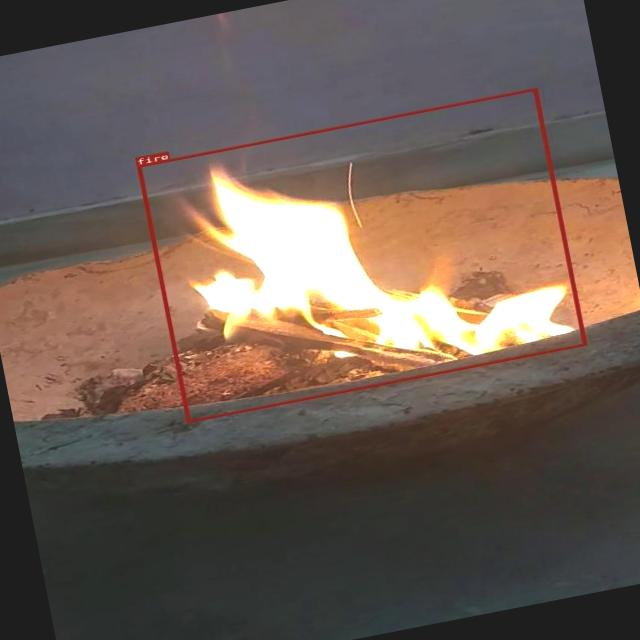fire: (136, 88, 586, 422)
